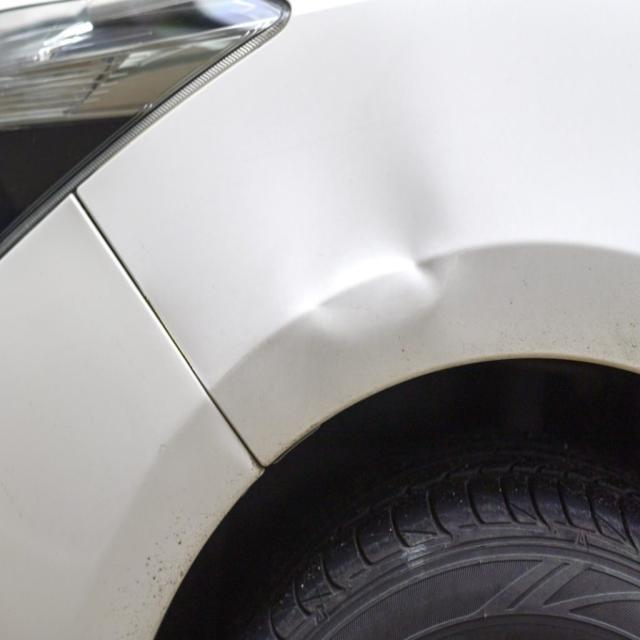dent: (291, 155, 457, 340)
